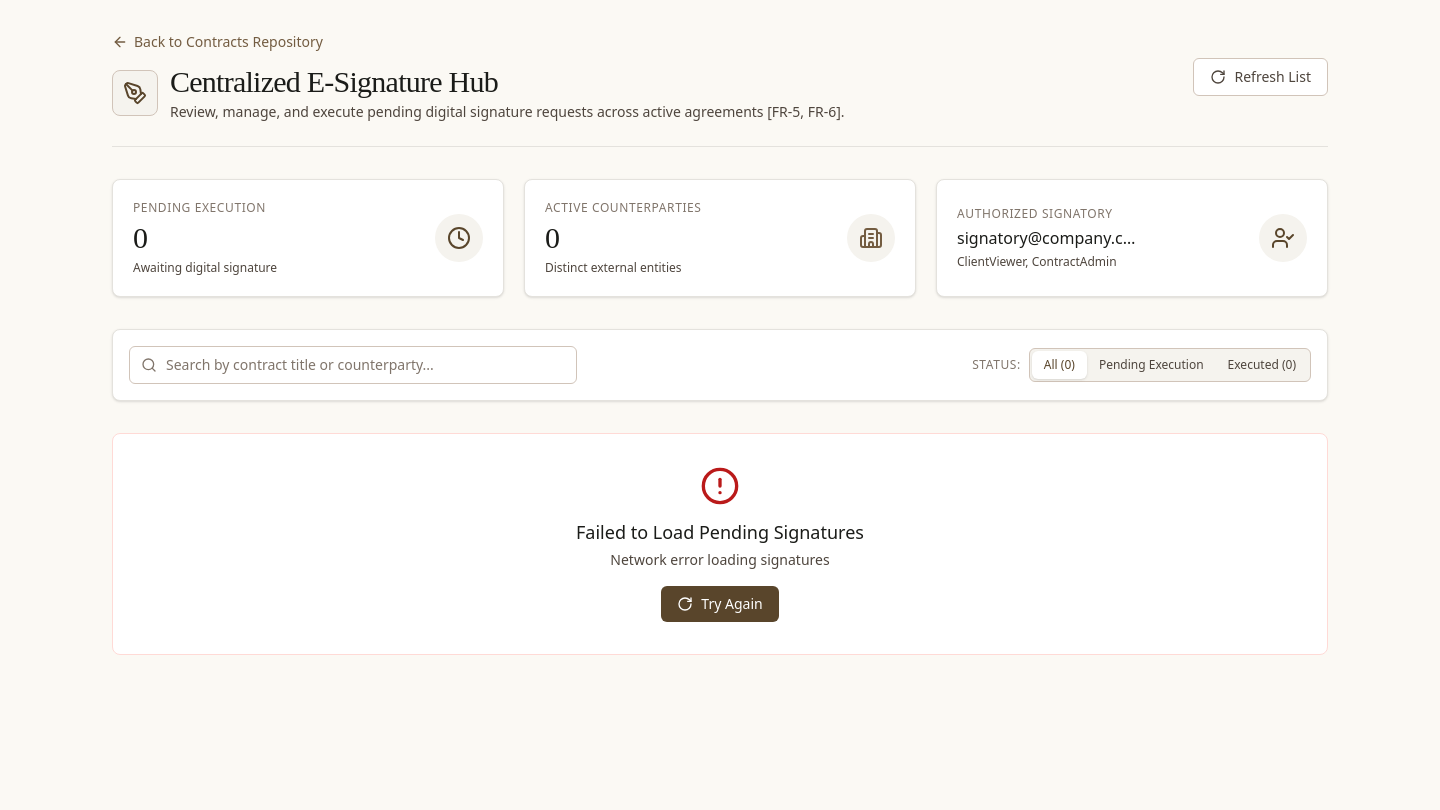
Test: SignaturesHubPage Component [FR-5, FR-6, NFR-5] › renders error state and retries on failure
Check: the message "Failed to Load Pending Signatures Network error loading signatures Try Again" is shown, box [112,433,1328,655]
Check: the text "Network error loading signatures" is shown, box [610,550,830,569]
Click the button "Try Again": {"x": 720, "y": 604} [661,586,779,622]
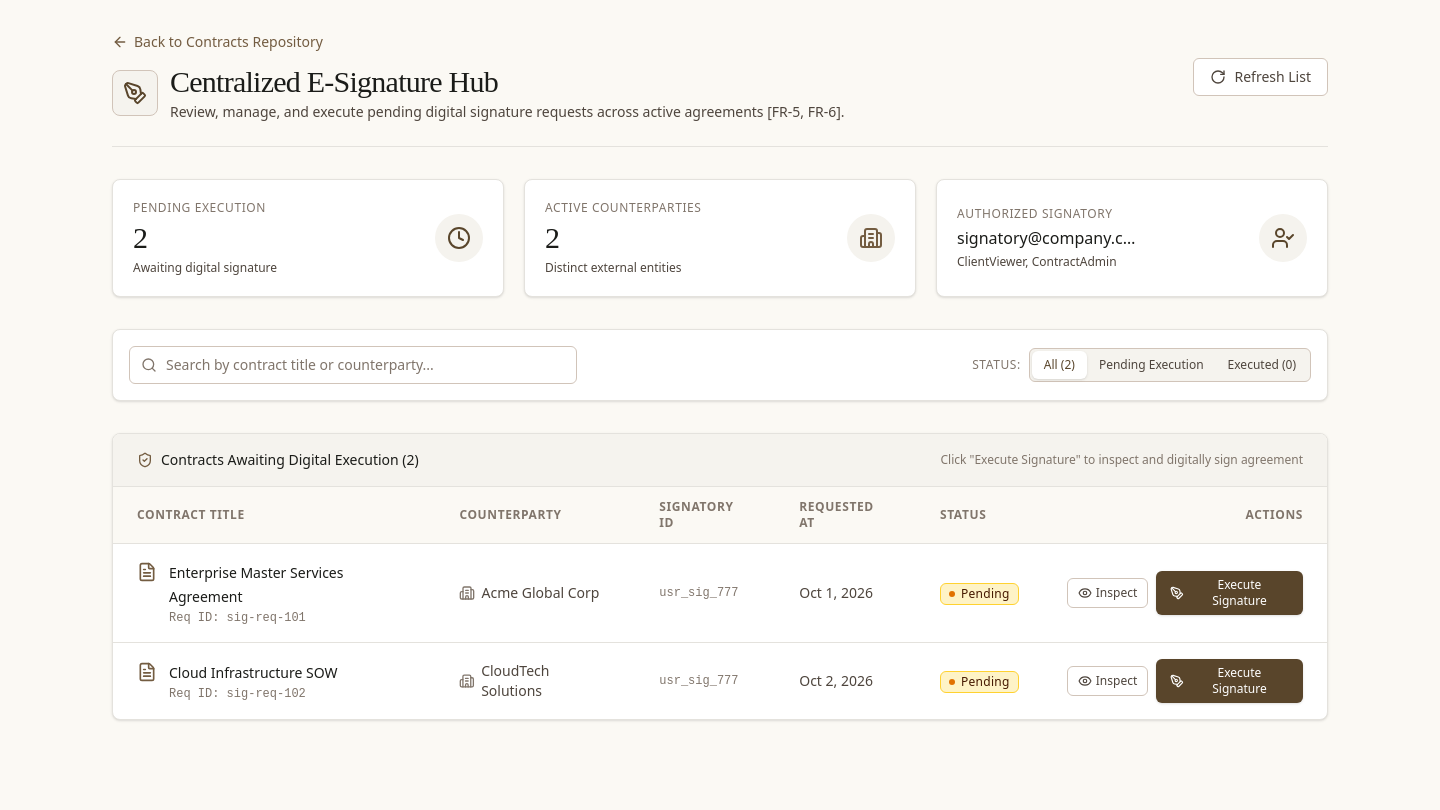
Check: the element with test id "pending-signatures-list" is shown, box [112,433,1328,720]
